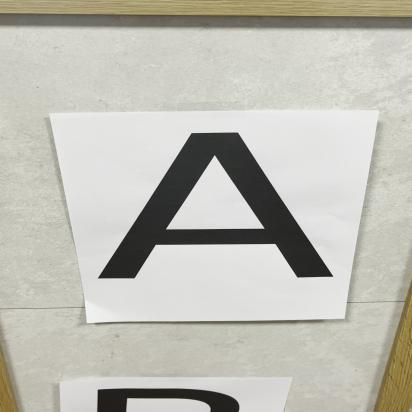seat: (91, 121, 338, 310)
